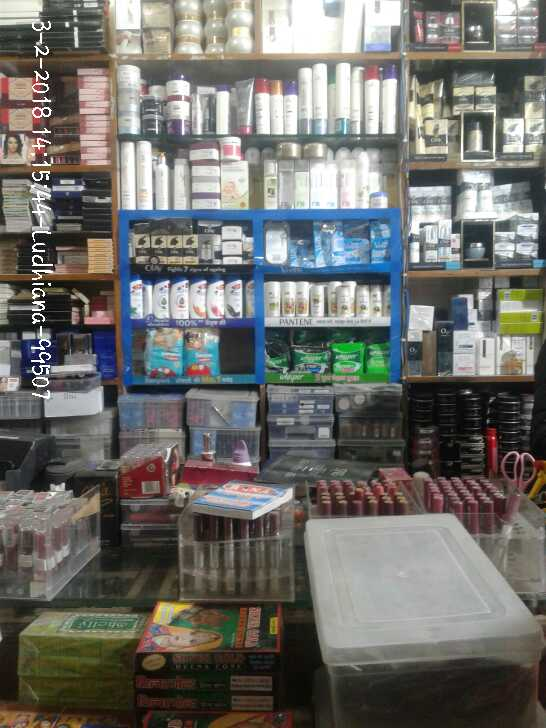venus: (315, 221, 342, 266), (266, 221, 291, 263), (368, 221, 390, 263), (343, 240, 368, 263), (292, 241, 315, 266)
